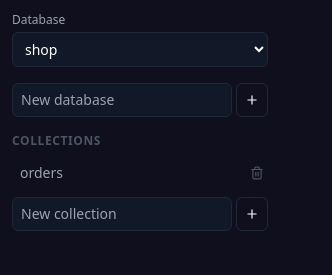
Scenario: CollectionSidebar › a refused drop shows the server reason
Click the button named "Drop collection orders". click: (257,173)
box: [246,162,268,184]
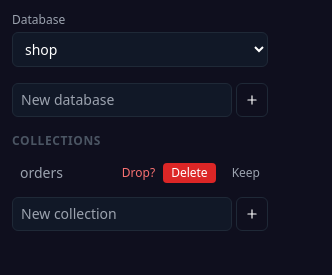
Click the button "Delete". click: (189,173)
box: [163,163,216,183]
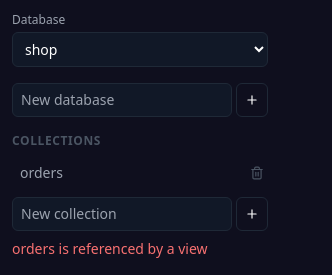
expect the message reads "orders is referenced by a view": met, box [12,239,208,258]
